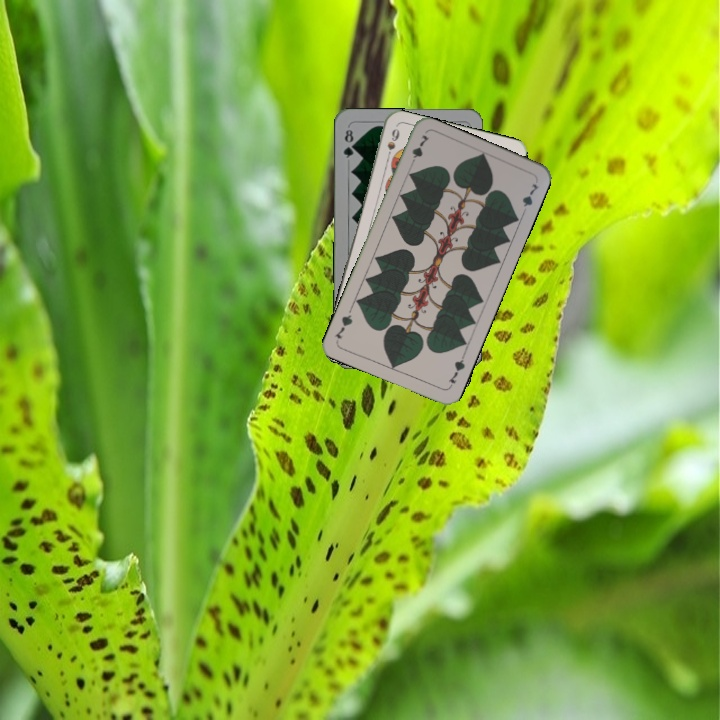G7: (406, 130, 432, 169), (444, 351, 468, 390)
G8: (339, 125, 357, 160)
S9: (382, 124, 402, 164)
